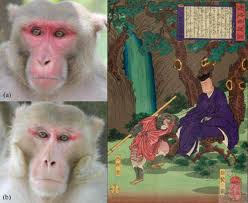monkey: (25, 100, 116, 201), (9, 5, 111, 89)
